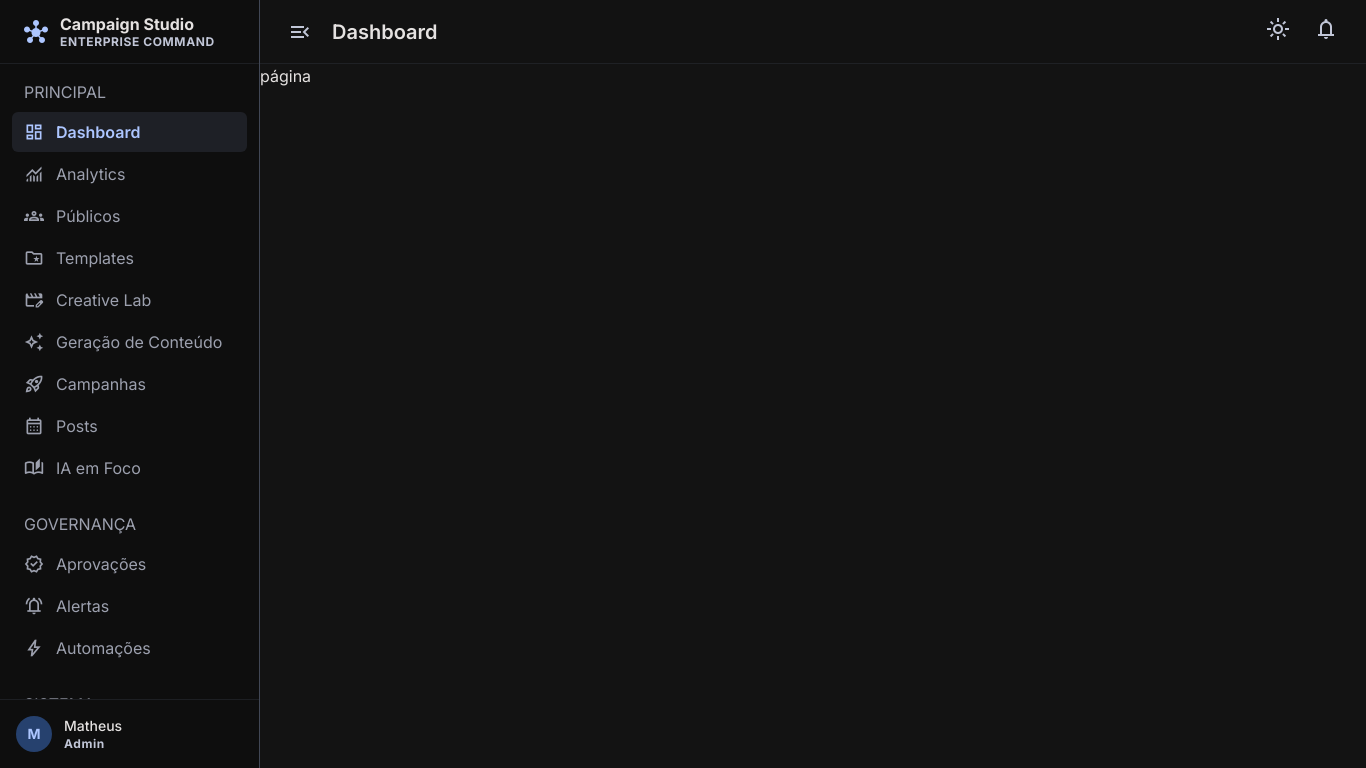
AppLayout › toggles the desktop sidebar collapse via the header button
Click the button named "Recolher menu lateral".
click(300, 32)  # box [280, 12, 320, 52]
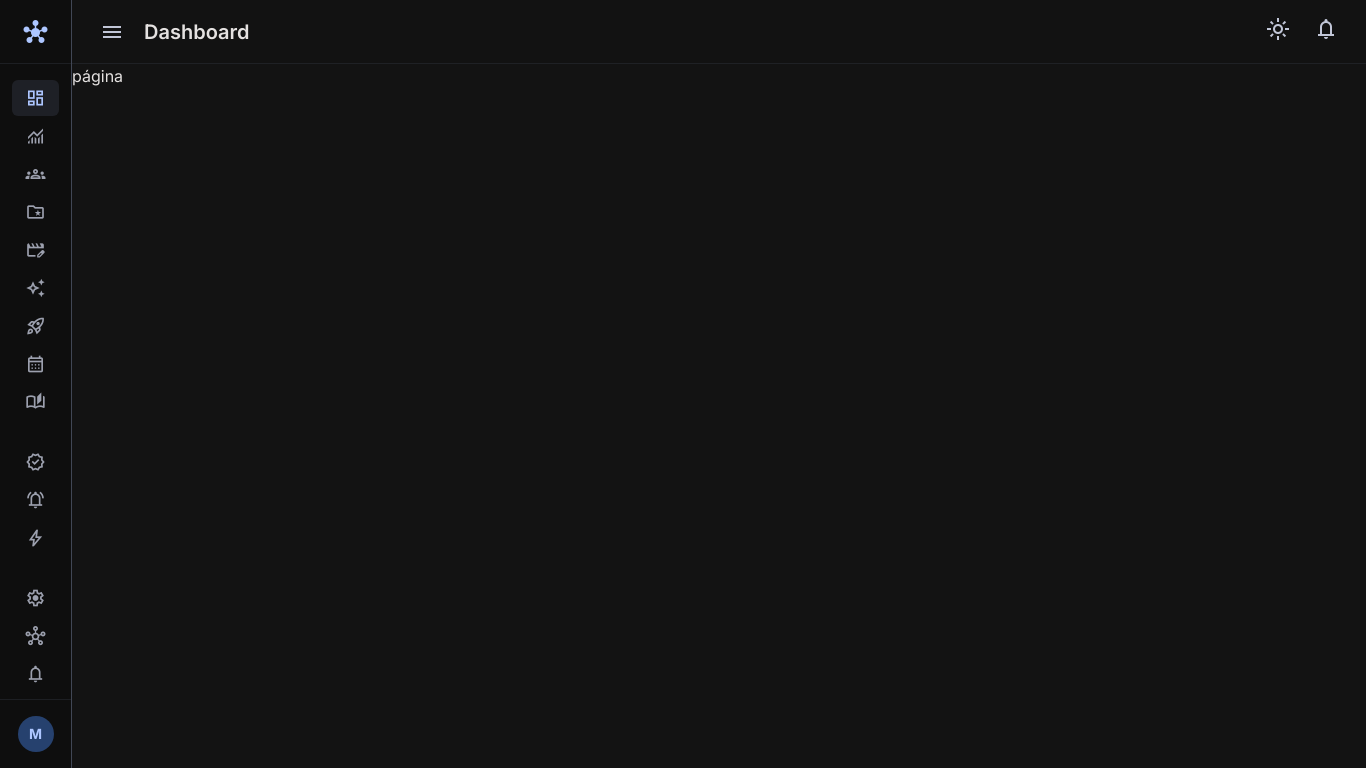
expect the button named "Expandir menu lateral" is collapsed: met, box [92, 12, 132, 52]
